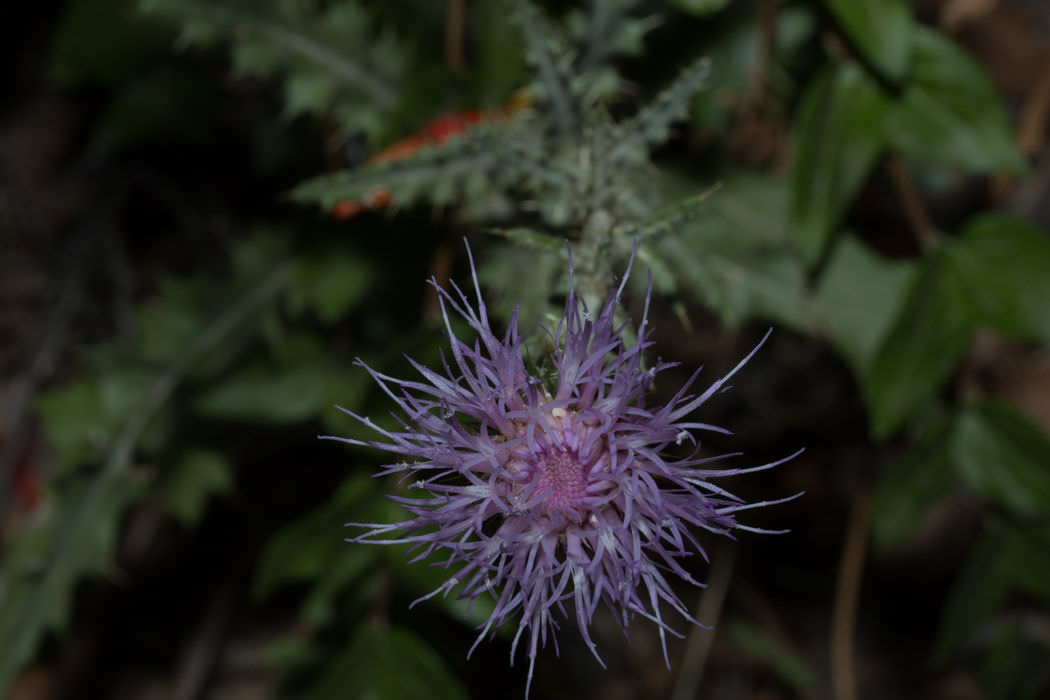thistle: (347, 288, 798, 663)
